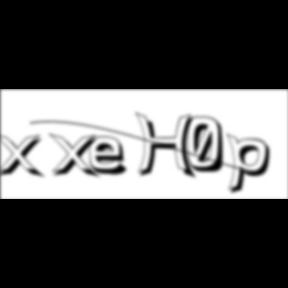0: (186, 115, 232, 174)
H: (135, 112, 201, 182)
e: (89, 135, 135, 178)
p: (227, 132, 277, 198)
x: (48, 132, 104, 181), (0, 132, 48, 181)
